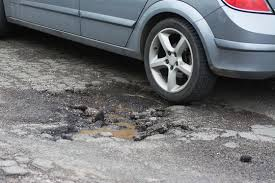pothole: (68, 96, 164, 139)
